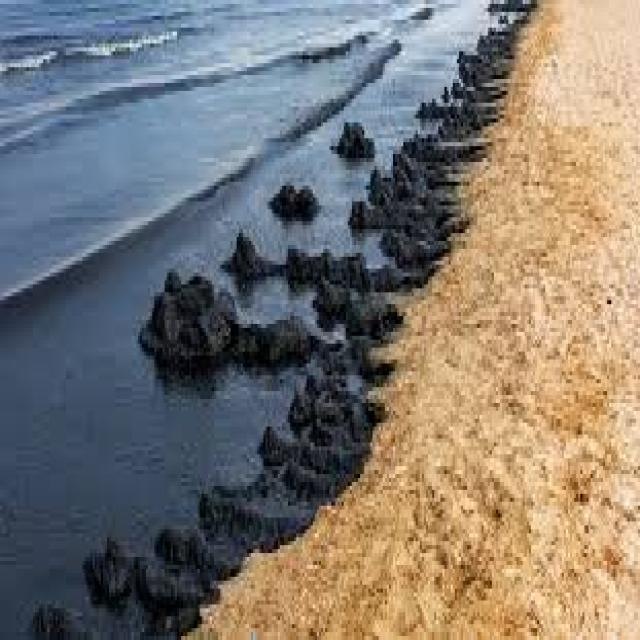truecolor: (34, 0, 530, 640)
